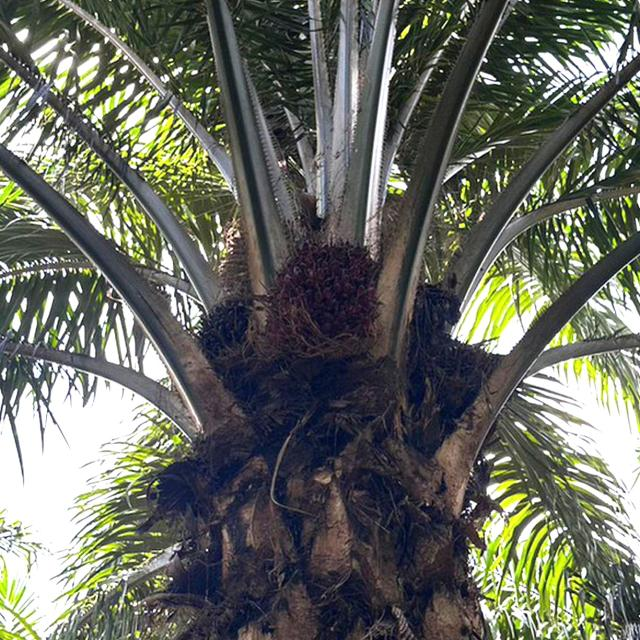ripe: (272, 237, 396, 341), (196, 291, 258, 364)
